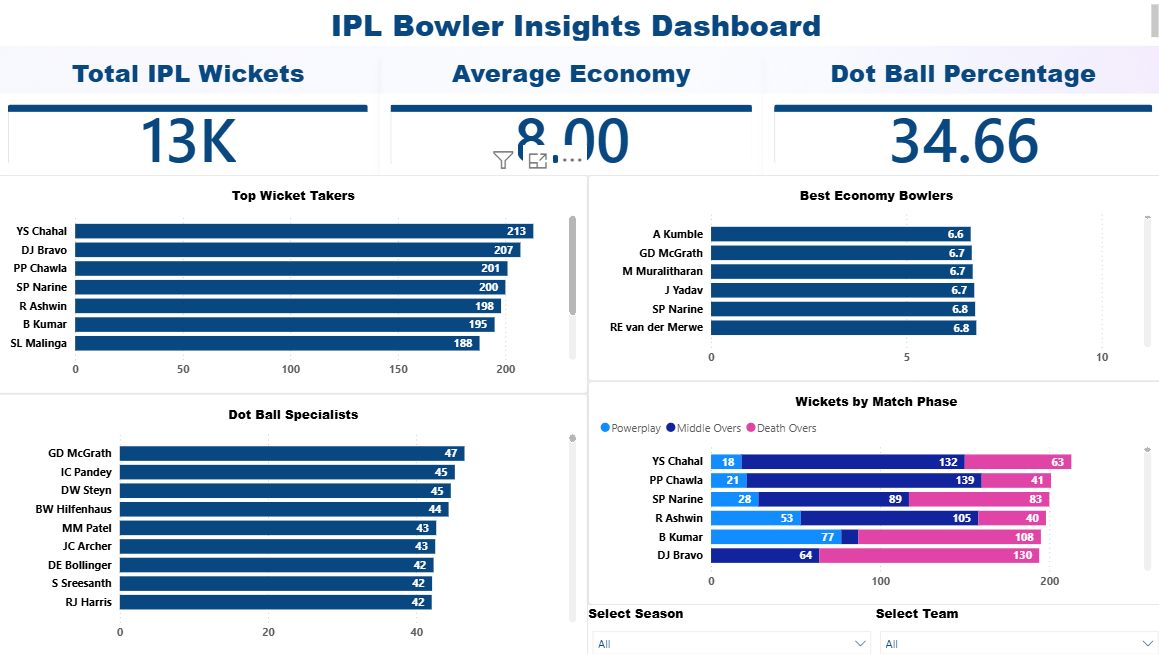

The dashboard page shown, as its layout file describes it:
{"tool":"powerbi","page":{"name":"Bowler Insights","canvas":[1280,720],"ordinal":2},"visuals":[{"type":"textbox","box":[0,0,1280.3,50],"z":0},{"type":"cardVisual","title":"Total IPL Wickets","fields":{"Data":["deliveries_clean.Total Wickets"]},"box":[0,60.4,419.9,131.7],"z":1000},{"type":"cardVisual","title":"Average Economy","fields":{"Data":["deliveries_clean.Economy Rate"]},"box":[419.9,60.4,421.3,131.7],"z":2000},{"type":"cardVisual","title":"Dot Ball Percentage","fields":{"Data":["matches_clean.Dot Ball %"]},"box":[841.2,60.4,439.1,131.7],"z":3000},{"type":"clusteredBarChart","title":"Top Wicket Takers","fields":{"Category":["deliveries_clean.bowler"],"Y":["deliveries_clean.Total Wickets"]},"box":[0,192.1,649.1,240.1],"z":4000},{"type":"clusteredBarChart","title":"Best Economy Bowlers","fields":{"Category":["deliveries_clean.bowler"],"Y":["deliveries_clean.Economy Rate"]},"box":[649.1,192.1,631.2,226.4],"z":5000},{"type":"clusteredBarChart","title":"Dot Ball Specialists","fields":{"Category":["deliveries_clean.bowler"],"Y":["matches_clean.Dot Ball %"]},"box":[0,432.2,649.1,288.2],"z":6000},{"type":"barChart","title":"Wickets by Match Phase","fields":{"Category":["deliveries_clean.bowler"],"Y":["deliveries_clean.Total Wickets"],"Series":["deliveries_clean.Phase"]},"box":[649.1,418.5,631.2,245.6],"z":7000},{"type":"slicer","title":"Select Season","fields":{"Values":["matches_clean.season_fixed"]},"box":[649.1,664.2,315.6,56.3],"z":7001},{"type":"slicer","title":"Select Team","fields":{"Values":["deliveries_clean.batting_team"]},"box":[964.7,664.2,315.6,56.3],"z":7002}]}

Visuals, with their boxes in screenshot pixels (x1, y1, x2, y2), scaled from the page's 1280x720 canvas onto the 1159x654 screenshot:
textbox: (0,0,1158,45)
"Total IPL Wickets" cardVisual: (0,55,380,174)
"Average Economy" cardVisual: (380,55,762,174)
"Dot Ball Percentage" cardVisual: (762,55,1158,174)
"Top Wicket Takers" clusteredBarChart: (0,174,588,393)
"Best Economy Bowlers" clusteredBarChart: (588,174,1158,380)
"Dot Ball Specialists" clusteredBarChart: (0,393,588,653)
"Wickets by Match Phase" barChart: (588,380,1158,603)
"Select Season" slicer: (588,603,874,653)
"Select Team" slicer: (874,603,1158,653)
